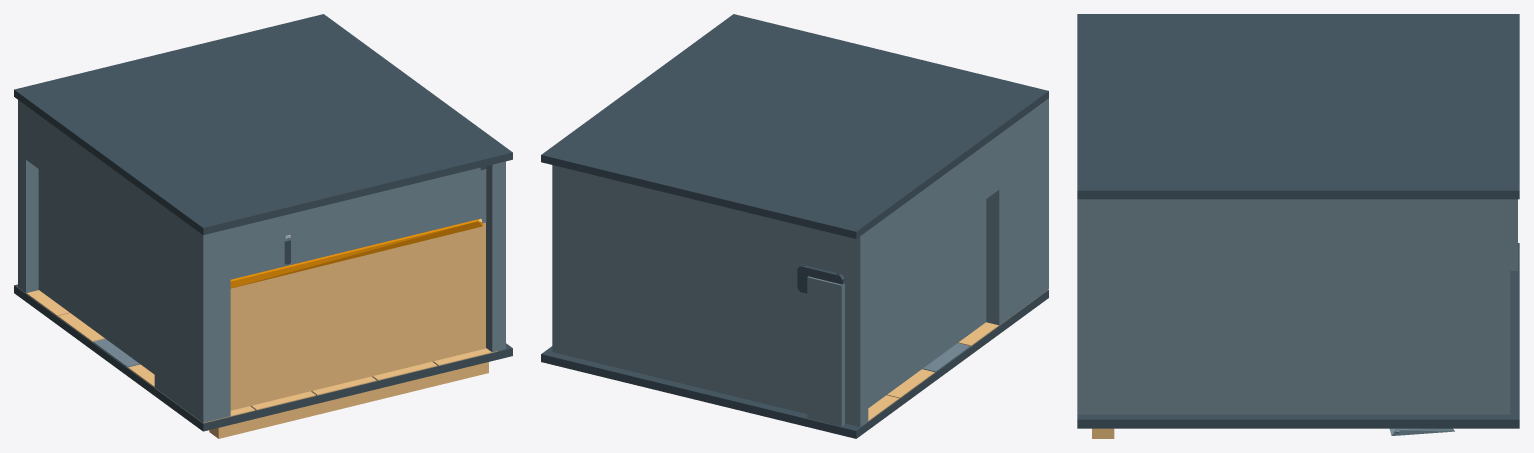
The model's file is Atelier.fbx.
3 renders of one model, left to right at view 1: azimuth 30°, elevation 25°; view 2: azimuth 150°, elevation 25°; view 3: azimuth 270°, elevation 25°, orthographic. The views are drawn at different scales.
Visible parts, largest first — view 1: Atelier_Decor; view 2: Atelier_Decor; view 3: Atelier_Decor.
Part boxes in pixels (x1=…): Atelier_Decor: x1=14, y1=14, x2=512, y2=438; Atelier_Decor: x1=541, y1=14, x2=1048, y2=438; Atelier_Decor: x1=1077, y1=14, x2=1519, y2=438.
Size of the model in its own units: 4.53 by 3.06 by 4.75.
